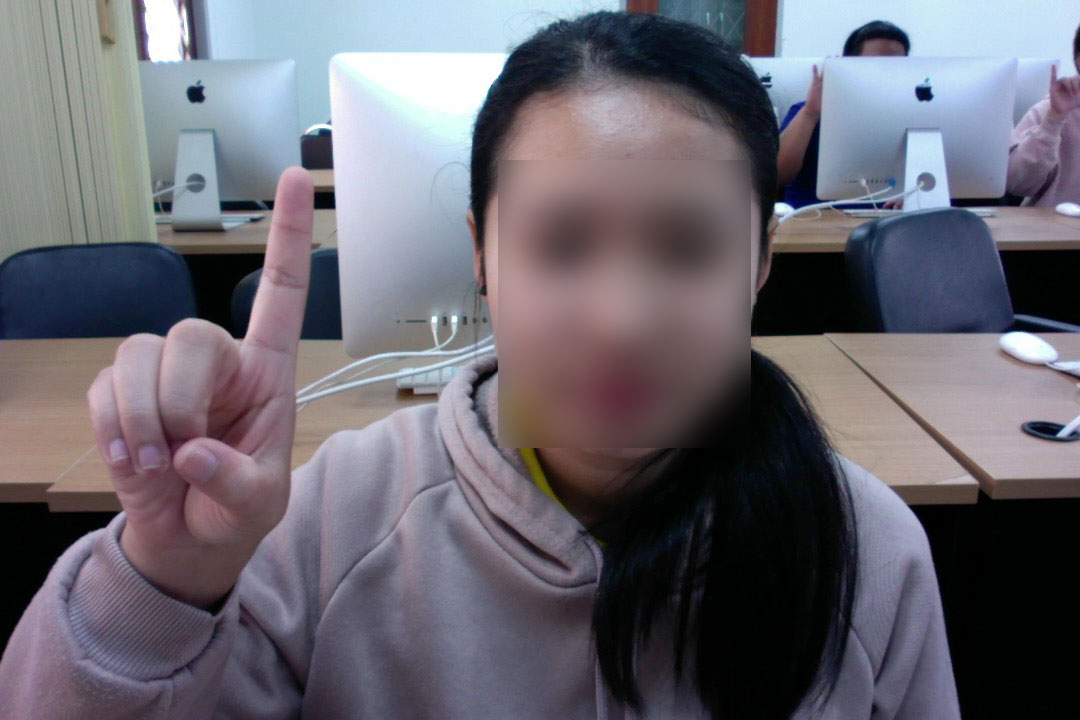dor: (77, 161, 321, 547)
